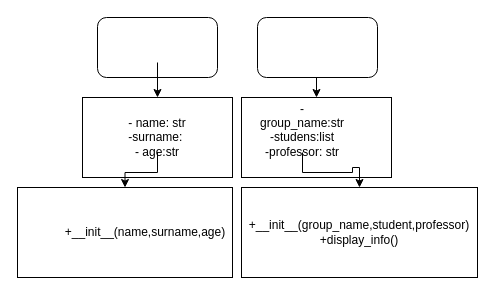
Image size: 495x295. Some labels were removed from this diagram. The centre of each missing label's shape, as x and y in pixels:
"Group" belongs at (317,47).
"Student" belongs at (157,47).
